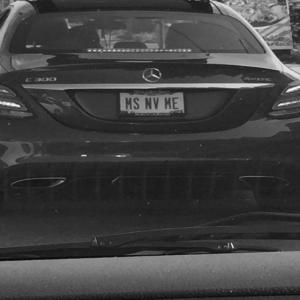Plate: (119, 92, 185, 116)
